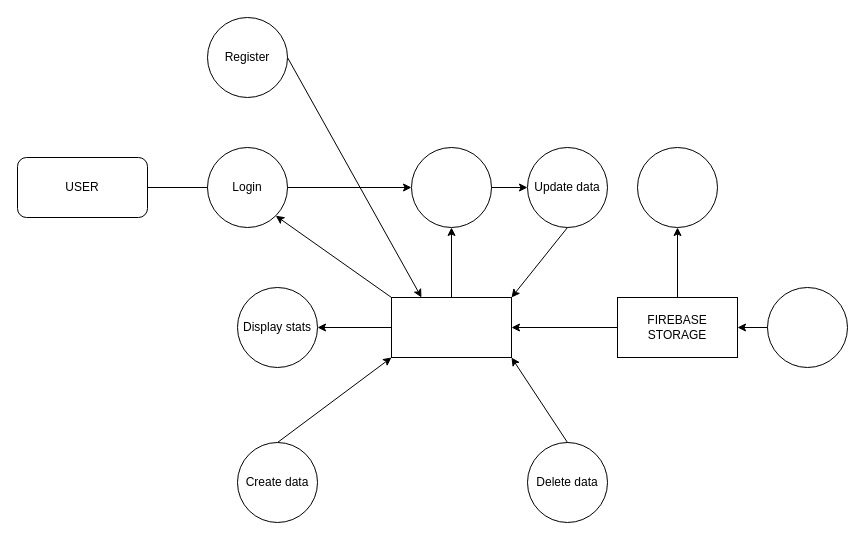
Some shapes in this 865 by 540 pixel diagram are drawn without their labels. Here are the shapes that lost their labels. From the top down, the box of each, then its label:
(410, 146, 492, 228): Display data
(636, 146, 718, 228): Display receipts
(390, 296, 512, 358): FIREBASE DATABASE
(766, 286, 848, 368): Create receipt
